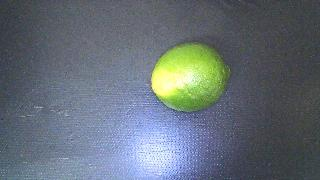EXPORTACION: (151, 43, 230, 112)
